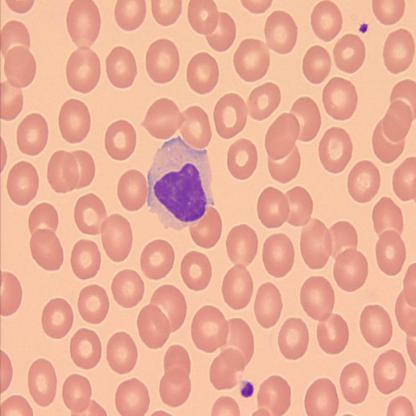Atypical lymphocyte: (148, 133, 215, 228)
